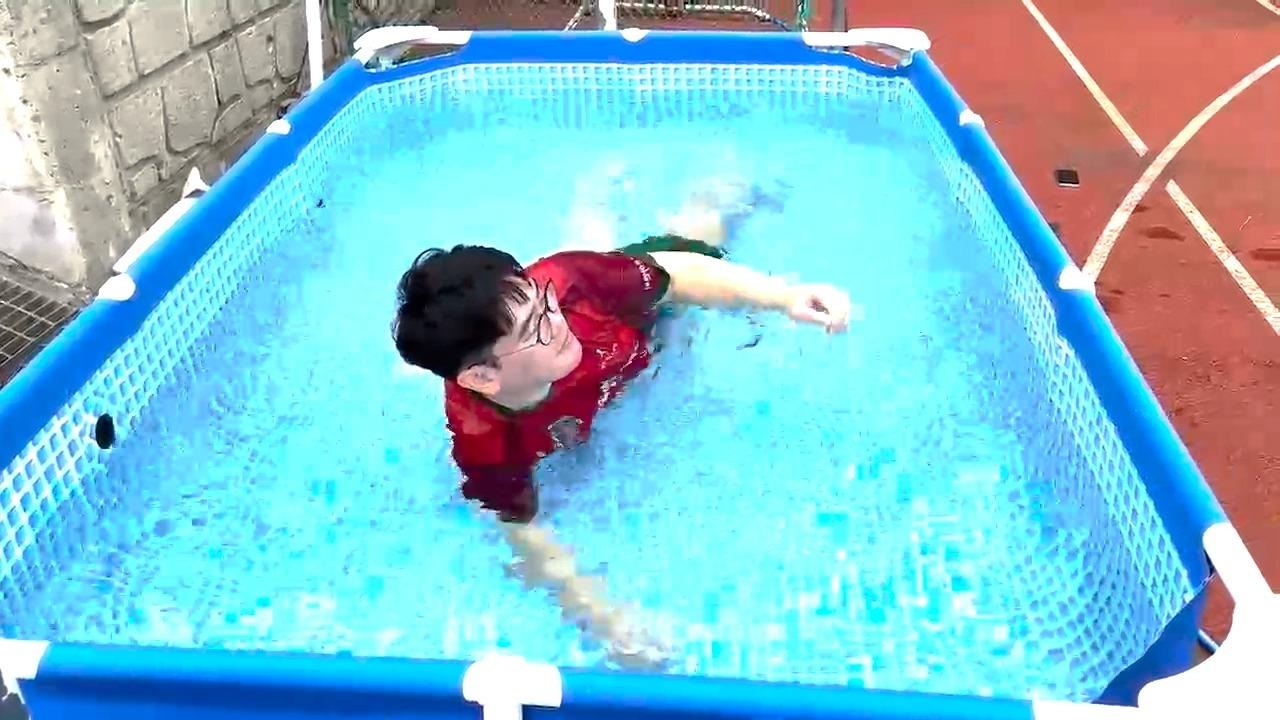Swimming: (365, 125, 853, 665)
